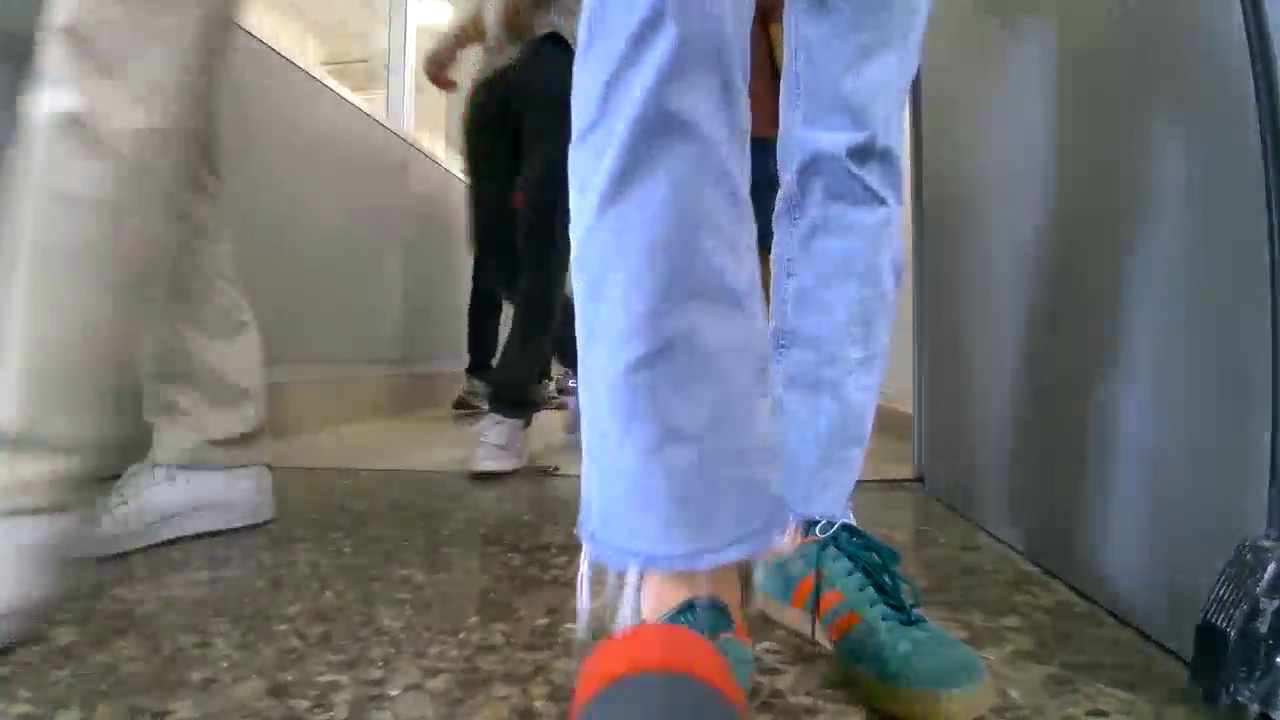robot: (543, 363, 582, 400)
